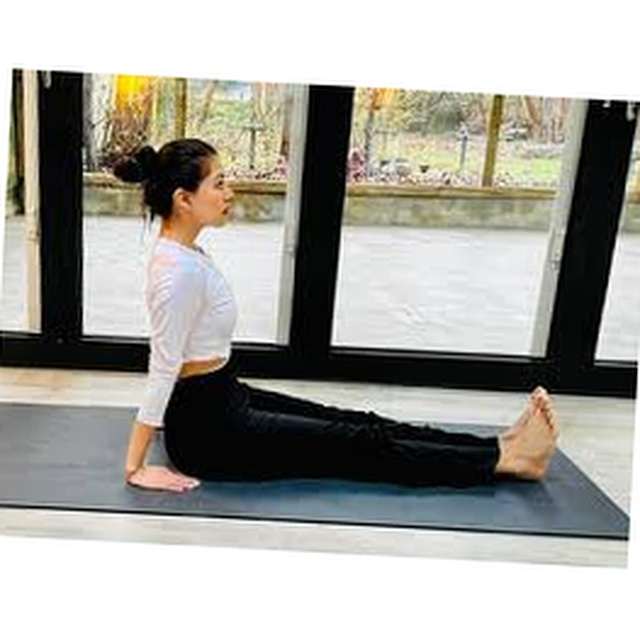Staff_Pose: (111, 139, 560, 494)
